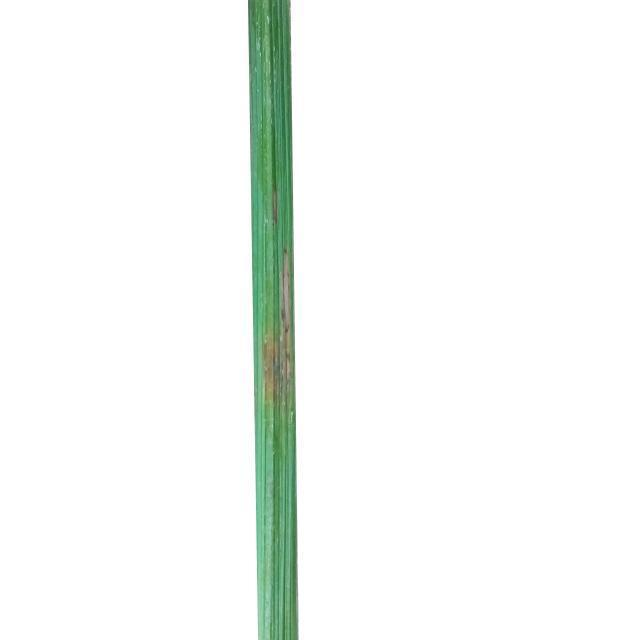Leaf_Blast: (262, 241, 290, 440), (271, 181, 279, 230)
